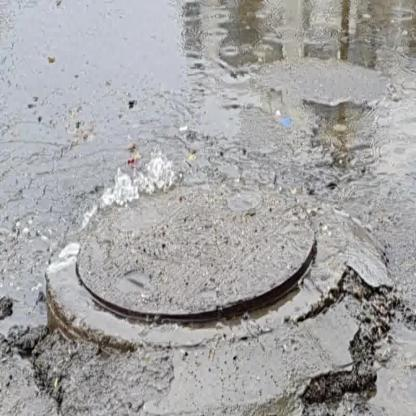drainage overflow-repair-: (0, 58, 358, 374)
